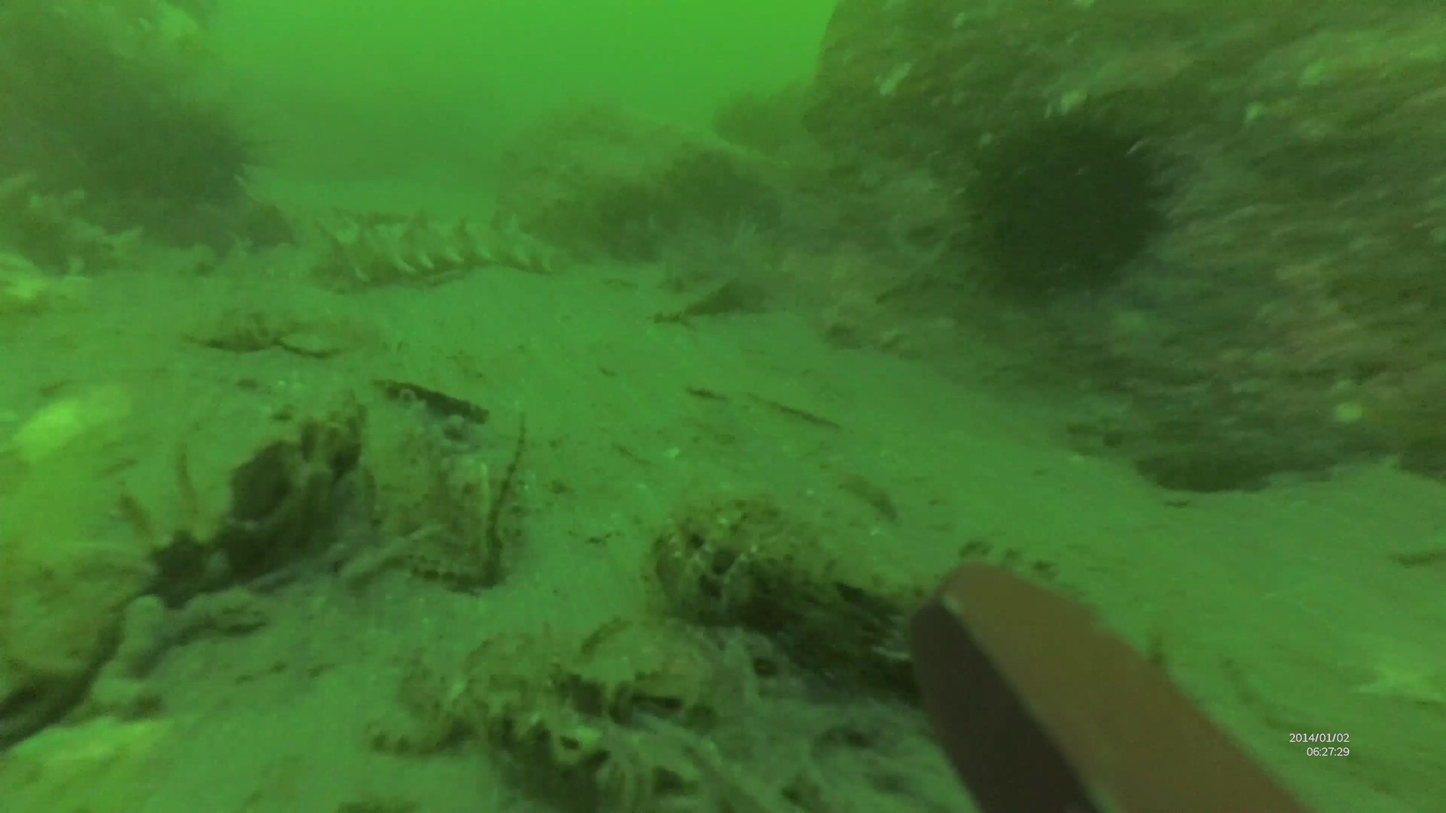echinus: (301, 214, 547, 282)
starfish: (972, 125, 1179, 306), (104, 96, 264, 202)
